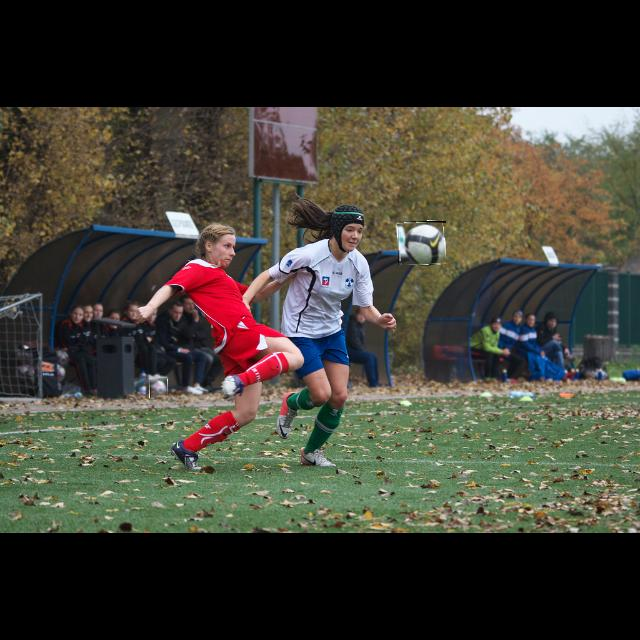Football: (398, 221, 446, 265), (150, 378, 168, 398)
